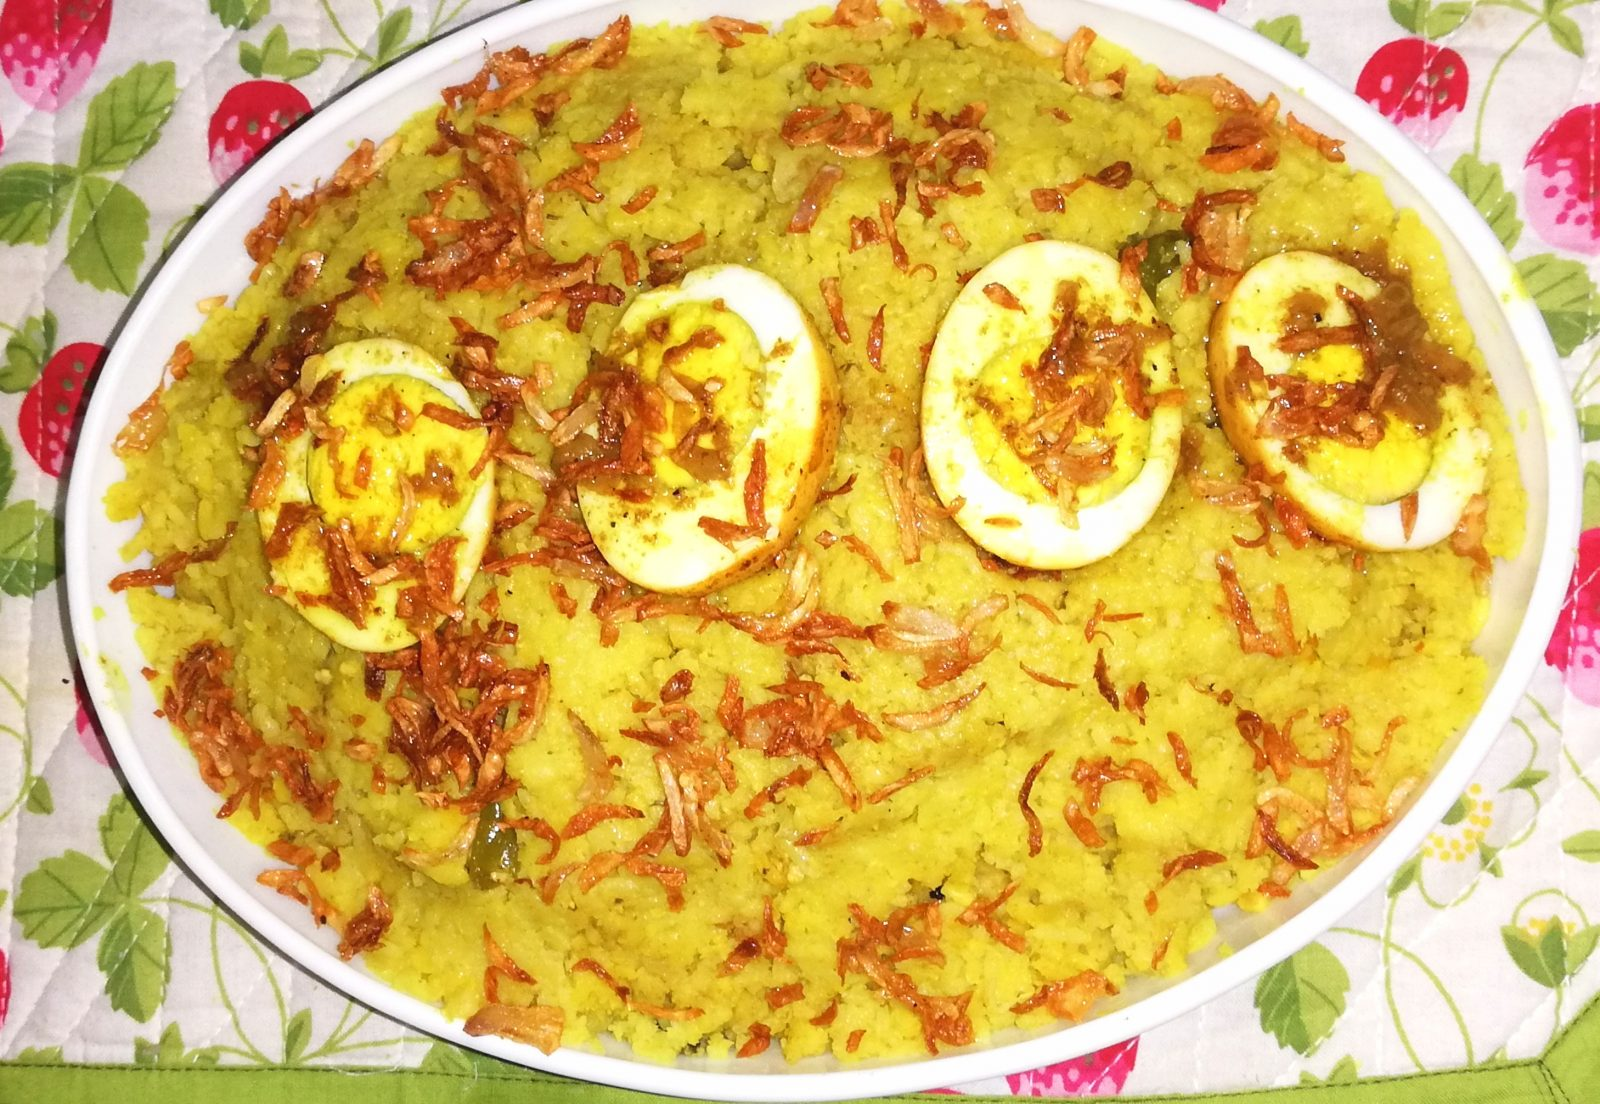khichuri: (173, 26, 1495, 1046)
